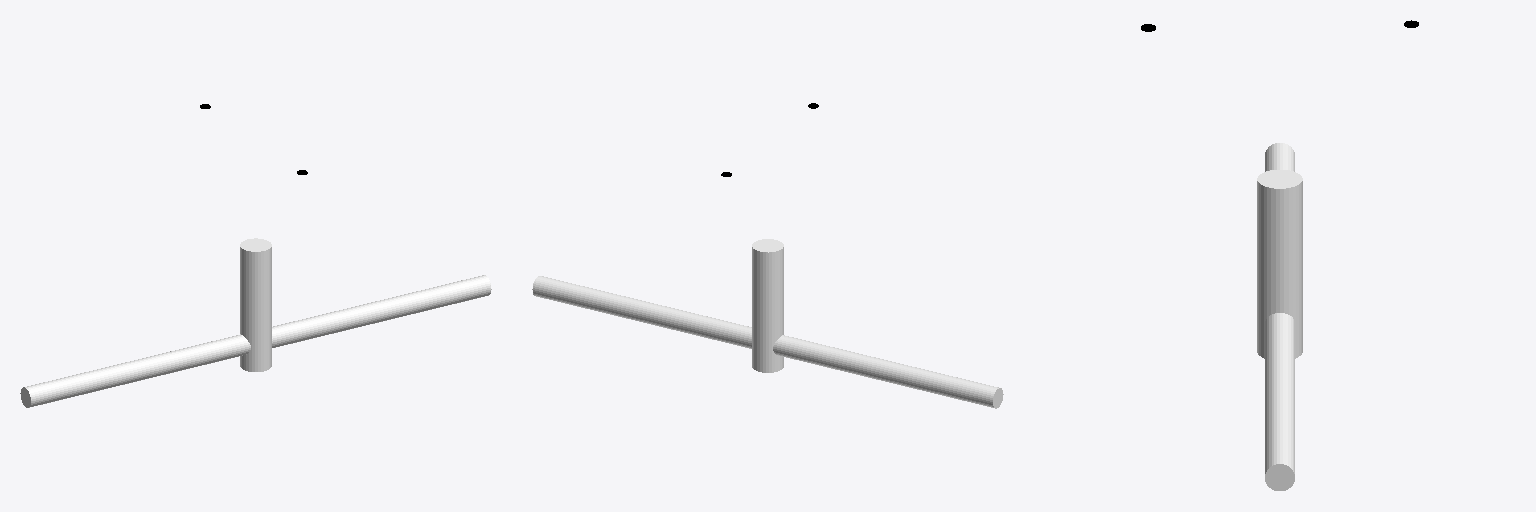
URDF robot description (if750a):
<?xml version="1.0"?>
<robot name="if750a">
  <material name="darkgrey">
    <color rgba=".175 .175 .175 1.0" />
  </material>
  <material name="blue">
    <color rgba="0 0 1 1" />
  </material>
  <material name="black">
    <color rgba="0 0 0 1" />
  </material>
  <material name="red">
    <color rgba="1 0 0 1" />
  </material>
  <material name="white">
    <color rgba="1 1 1 1" />
  </material>
  <link name="base_link">
    <origin rpy="0 -0 0" xyz="0 0 0" />
    <inertial>
      <origin rpy="0 -0 0" xyz="0 0 0" />
      <mass value="1.5" />
      <inertia ixx="0.0347563" ixy="0" ixz="0" iyy="0.0458929" iyz="0" izz="0.0977" />
    </inertial>
    <visual>
      <origin rpy="1.570796 -0 1.57079632679489661923" xyz="0 0 0" />
      <geometry>
        <mesh filename="file://[local-path]/robotx-2022/Firmware/Tools/sitl_gazebo/models/if750a_camera_pushing/meshes/if750a.stl" scale="0.001 0.001 0.001" />
      </geometry>
      <material name="darkgrey" />
    </visual>
  </link>
  <link name="imu_link">
    <origin rpy="0 -0 0" xyz="0 0 0" />
    <inertial>
      <origin rpy="0 -0 0" xyz="0 0 0" />
      <mass value="0.015" />
      <inertia ixx="1e-05" ixy="0" ixz="0" iyy="1e-05" iyz="0" izz="1e-05" />
    </inertial>
  </link>
  <joint name="imu_joint" type="revolute">
    <child link="imu_link" />
    <parent link="base_link" />
    <axis xyz="1 0 0" />
    <limit effort="0" lower="0" upper="0" velocity="0" />
    <origin xyz="0 0 0" />
  </joint>
  <link name="rotor_0">
    <inertial>
      <origin rpy="0 -0 0" xyz="0 0 0" />
      <mass value="0.005" />
      <inertia ixx="9.75e-07" ixy="0" ixz="0" iyy="0.000273104" iyz="0" izz="0.000274004" />
    </inertial>
    <visual>
      <origin rpy="0 -0 0" xyz="0 0 0" />
      <geometry>
        <mesh filename="file://[local-path]/robotx-2022/Firmware/Tools/sitl_gazebo/models/iris/meshes/iris_prop_ccw.stl" scale="1 1 1" />
      </geometry>
      <material name="blue" />
    </visual>
  </link>
  <joint name="rotor_0_joint" type="revolute">
    <child link="rotor_0" />
    <parent link="base_link" />
    <axis xyz="0 0 1" />
    <limit lower="-1e+16" upper="1e+16" effort="10" velocity="10" />
    <origin rpy="0 -0 0" xyz="0.265 -0.265 0.35" />
  </joint>
  <link name="rotor_1">
    <inertial>
      <origin rpy="0 -0 0" xyz="0 0 0" />
      <mass value="0.005" />
      <inertia ixx="9.75e-07" ixy="0" ixz="0" iyy="0.000273104" iyz="0" izz="0.000274004" />
    </inertial>
    <visual>
      <origin rpy="0 -0 0" xyz="0 0 0" />
      <geometry>
        <mesh filename="file://[local-path]/robotx-2022/Firmware/Tools/sitl_gazebo/models/iris/meshes/iris_prop_ccw.stl" scale="1 1 1" />
      </geometry>
      <material name="darkgrey" />
    </visual>
  </link>
  <joint name="rotor_1_joint" type="revolute">
    <child link="rotor_1" />
    <parent link="base_link" />
    <axis xyz="0 0 1" />
    <limit lower="-1e+16" upper="1e+16" effort="10" velocity="10" />
    <origin rpy="0 -0 0" xyz="-0.265 0.265 0.35" />
  </joint>
  <link name="rotor_2">
    <inertial>
      <origin rpy="0 -0 0" xyz="0 0 0" />
      <mass value="0.005" />
      <inertia ixx="9.75e-07" ixy="0" ixz="0" iyy="0.000273104" iyz="0" izz="0.000274004" />
    </inertial>
    <visual>
      <origin rpy="0 -0 0" xyz="0 0 0" />
      <geometry>
        <mesh filename="file://[local-path]/robotx-2022/Firmware/Tools/sitl_gazebo/models/iris/meshes/iris_prop_cw.stl" scale="1 1 1" />
      </geometry>
      <material name="blue" />
    </visual>
  </link>
  <joint name="rotor_2_joint" type="revolute">
    <child link="rotor_2" />
    <parent link="base_link" />
    <axis xyz="0 0 1" />
    <limit lower="-1e+16" upper="1e+16" effort="10" velocity="10" />
    <origin rpy="0 -0 0" xyz="0.265 0.265 0.35" />
  </joint>
  <link name="rotor_3">
    <inertial>
      <origin rpy="0 -0 0" xyz="0 0 0" />
      <mass value="0.005" />
      <inertia ixx="9.75e-07" ixy="0" ixz="0" iyy="0.000273104" iyz="0" izz="0.000274004" />
    </inertial>
    <visual>
      <origin rpy="0 -0 0" xyz="0 0 0" />
      <geometry>
        <mesh filename="file://[local-path]/robotx-2022/Firmware/Tools/sitl_gazebo/models/iris/meshes/iris_prop_cw.stl" scale="1 1 1" />
      </geometry>
      <material name="darkgrey" />
    </visual>
  </link>
  <joint name="rotor_3_joint" type="revolute">
    <child link="rotor_3" />
    <parent link="base_link" />
    <axis xyz="0 0 1" />
    <limit lower="-1e+16" upper="1e+16" effort="10" velocity="10" />
    <origin rpy="0 -0 0" xyz="-0.265 -0.265 0.35" />
  </joint>
  <link name="gps0_link">
    <origin rpy="0 0 0" xyz="-0.01 0.173 0.47" />
    <inertial>
      <origin rpy="0 0 0" xyz="0 0 0" />
      <mass value="0.015" />
      <inertia ixx="1e-05" ixy="0" ixz="0" iyy="1e-05" iyz="0" izz="1e-05" />
    </inertial>
    <visual>
      <geometry>
        <cylinder length="0.002" radius="0.01" />
      </geometry>
      <material name="black" />
    </visual>
  </link>
  <joint name="gps0_joint" type="fixed">
    <child link="gps0_link" />
    <parent link="base_link" />
    <origin rpy="0 0 0" xyz="-0.01 0.173 0.47" />
  </joint>
  <link name="gps1_link">
    <origin rpy="0 0 0" xyz="0.001 -0.173 0.47" />
    <inertial>
      <origin rpy="0 0 0" xyz="0 0 0" />
      <mass value="0.015" />
      <inertia ixx="1e-05" ixy="0" ixz="0" iyy="1e-05" iyz="0" izz="1e-05" />
    </inertial>
    <visual>
      <geometry>
        <cylinder length="0.002" radius="0.01" />
      </geometry>
      <material name="black" />
    </visual>
  </link>
  <joint name="gps1_joint" type="fixed">
    <child link="gps1_link" />
    <parent link="base_link" />
    <origin rpy="0 0 0" xyz="0.001 -0.173 0.47" />
  </joint>
  <link name="front_camera_link">
    <inertial>
      <origin rpy="0 0 0" xyz="0 0 0" />
      <mass value="0.015" />
      <inertia ixx="1e-05" ixy="0" ixz="0" iyy="1e-05" iyz="0" izz="1e-05" />
    </inertial>
  </link>
  <joint name="front_camera_joint" type="fixed">
    <child link="front_camera_link" />
    <parent link="base_link" />
    <origin rpy="0 0.366519143 0" xyz="0.14227 0 0.2282" />
  </joint>
  <link name="downward_camera_link">
    <inertial>
      <origin rpy="0 0 0" xyz="0 0 0" />
      <mass value="0.015" />
      <inertia ixx="1e-05" ixy="0" ixz="0" iyy="1e-05" iyz="0" izz="1e-05" />
    </inertial>
  </link>
  <joint name="downward_camera_joint" type="fixed">
    <child link="downward_camera_link" />
    <parent link="base_link" />
    <origin rpy="0 1.570796327 0" xyz="0.127909 0 0.187349" />
  </joint>
  <link name="left_camera_link">
    <inertial>
      <origin rpy="0 0 0" xyz="0 0 0" />
      <mass value="0.015" />
      <inertia ixx="1e-05" ixy="0" ixz="0" iyy="1e-05" iyz="0" izz="1e-05" />
    </inertial>
  </link>
  <joint name="left_camera_joint" type="fixed">
    <child link="left_camera_link" />
    <parent link="base_link" />
    <origin rpy="0 0.366519143 0.968657735" xyz="0.09942 0.10153 0.2282" />
  </joint>
  <link name="right_camera_link">
    <inertial>
      <origin rpy="0 0 0" xyz="0 0 0" />
      <mass value="0.015" />
      <inertia ixx="1e-05" ixy="0" ixz="0" iyy="1e-05" iyz="0" izz="1e-05" />
    </inertial>
  </link>
  <joint name="right_camera_joint" type="fixed">
    <child link="right_camera_link" />
    <parent link="base_link" />
    <origin rpy="0 0.366519143 -0.968657735" xyz="0.09942 -0.10153 0.2282" />
  </joint>
  <link name="horizontal_rod_link">
    <inertial>
      <origin rpy="0 0 0" xyz="0 0 0" />
      <mass value="0.00001" />
      <inertia ixx="1e-08" ixy="0" ixz="0" iyy="1e-08" iyz="0" izz="1e-08" />
    </inertial>
    <visual>
      <origin rpy="0 1.57079632679489661923 0" xyz="0 0 0" />
      <geometry>
        <cylinder length="1.0" radius="0.02" />
      </geometry>
      <material name="white" />
    </visual>
  </link>
  <joint name="horizontal_rod_joint" type="fixed">
    <child link="horizontal_rod_link" />
    <parent link="base_link" />
    <origin rpy="0 0 0" xyz="0.0 0 0.05" />
  </joint>

  <link name="vertical_rod_link">
    <inertial>
      <mass value="0.001" />
      <origin xyz="0 0 0" rpy="0 0 0" />
      <inertia ixx="2e-05" ixy="0" ixz="0" iyy="2e-05" iyz="0" izz="5e-07" />
    </inertial>
    <visual>
      <origin xyz="0 0 0" rpy="0 0 0" />
      <geometry>
        <cylinder radius="0.03" length="0.25" />
      </geometry>
      <material name="white" />
    </visual>
  </link>

  <joint name="vertical_rod_joint" type="prismatic">
    <parent link="base_link" />
    <child link="vertical_rod_link" />
    <origin xyz="0 0 0.125" rpy="0 0 0" />
    <axis xyz="0 0 1" />
    <limit lower="-0.5" upper="0.0" effort="0.5" velocity="0.15" />
    <dynamics damping="0.0" friction="0.0"/>
  </joint>

  <transmission name="tran1">
    <type>transmission_interface/SimpleTransmission</type>
    <joint name="vertical_rod_joint">
      <hardwareInterface>hardware_interface/EffortJointInterface</hardwareInterface>
    </joint>
    <actuator name="motor1">
      <hardwareInterface>hardware_interface/EffortJointInterface</hardwareInterface>
      <mechanicalReduction>1</mechanicalReduction>
    </actuator>
  </transmission>

  <link name="velodyne_link">
    <inertial>
      <origin rpy="0 -0 0" xyz="0 0 0" />
      <mass value="0.001" />
      <inertia ixx="2e-05" ixy="0" ixz="0" iyy="2e-05" iyz="0" izz="5e-7" />
    </inertial>
    <visual>
      <origin rpy="0 -0 0" xyz="0 0 0" />
      <geometry>
        <mesh filename="file:///opt/ros/melodic/share/velodyne_description/meshes/VLP16_base_1.dae" scale="1 1 1" />
      </geometry>
    </visual>
    <visual>
      <origin rpy="0 -0 0" xyz="0 0 0" />
      <geometry>
        <mesh filename="file:///opt/ros/melodic/share/velodyne_description/meshes/VLP16_base_2.dae" scale="1 1 1" />
      </geometry>
    </visual>
    <visual>
      <origin rpy="0 -0 0" xyz="0 0 0" />
      <geometry>
        <mesh filename="file:///opt/ros/melodic/share/velodyne_description/meshes/VLP16_scan.dae" scale="1 1 1" />
      </geometry>
    </visual>
  </link>
  <joint name="velodyne_joint" type="fixed">
    <child link="velodyne_link" />
    <parent link="base_link" />
    <origin rpy="0 0 0" xyz="0 0 0.125" />
  </joint>
</robot>

--- Render facts (derived) ---
3 views of the same robot in one strip: view 1: azimuth 30°, elevation 25°; view 2: azimuth 150°, elevation 25°; view 3: azimuth 270°, elevation 25° (orthographic).
Robot: if750a — 15 links, 14 joints (5 revolute, 1 prismatic, 8 fixed); root link base_link; default pose: all joints at 0.
Visible links, largest first — view 1: horizontal_rod_link, vertical_rod_link; view 2: horizontal_rod_link, vertical_rod_link; view 3: vertical_rod_link, horizontal_rod_link.
Boxes of the visible links, x1=… form: horizontal_rod_link: x1=20, y1=275, x2=491, y2=407; vertical_rod_link: x1=240, y1=238, x2=271, y2=371; horizontal_rod_link: x1=532, y1=276, x2=1003, y2=408; vertical_rod_link: x1=752, y1=239, x2=783, y2=372; vertical_rod_link: x1=1257, y1=170, x2=1302, y2=358; horizontal_rod_link: x1=1265, y1=143, x2=1294, y2=490.
Size in the robot's own frame: 1 by 0.366 by 0.471 metres.
Geometry: only primitive shapes (box / cylinder / sphere) drawn; not drawn: 8 mesh visuals (reference in a form the renderer does not follow).